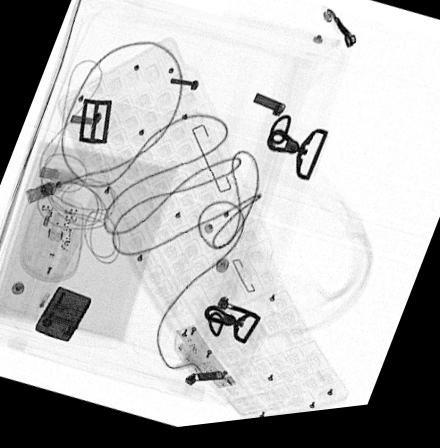Lighter: (34, 287, 91, 343)
